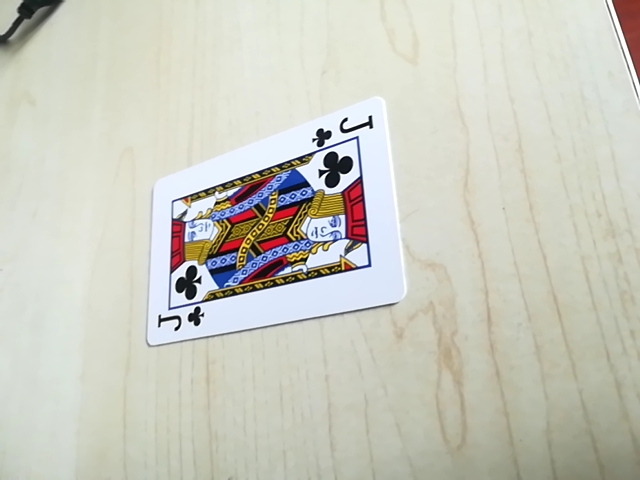mh j: (311, 115, 380, 149), (151, 302, 204, 340)
